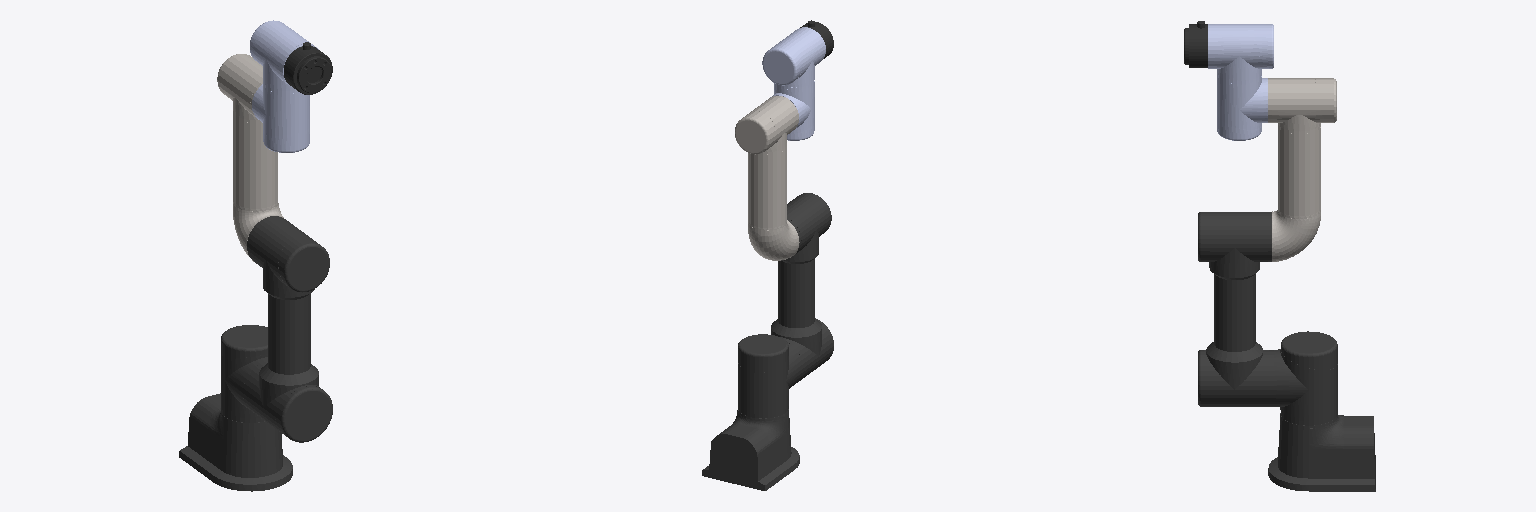
The robot description file, URDF, robot "aubo_ES3":
<?xml version="1.0"?>
<robot name="aubo_ES3">
  <dh_type type="modified"/>
  <safety_para singularity_consistent="0.02 0.01 10 0.2 0.045 10"/>
  <render_settings ambient_light_color="0xffffff" ambient_light_intensity="0.9" directional_light_color="0xffffff" directional_light_intensity="0.3"/>
  <link name="aubo_base">
    <inertial>
      <origin xyz="0.000149 -0.000400 0.034600" rpy="0 1.5708 0" />
      <mass value="1.365846" />
      <inertia ixx="0.002801" ixy="-0.000001" ixz="0.000002" iyy="0.002763" iyz="-0.000011" izz="0.003837" />
    </inertial>
    <visual>
      <origin xyz="0 0 0" rpy="0 0 0" />
      <geometry>
        <mesh filename="package://aubo_description/meshes/aubo_ES3/visual/link0.DAE" />
      </geometry>
      <material name="">
        <color rgba="0.29804 0.29804 0.29804 1" />
      </material>
    </visual>
    <collision>
      <origin xyz="0 0 0" rpy="0 0 0" />
      <geometry>
        <mesh filename="package://aubo_description/meshes/aubo_ES3/collision/link0.STL" />
      </geometry>
    </collision>
  </link>

  <link name="shoulder_Link">
    <inertial>
      <origin xyz="-0.000016 0.001852 -0.015716" rpy="0 0 0" />
      <mass value="3.257300" />
      <inertia ixx="0.005717" ixy="0.000001" ixz="0.000004" iyy="0.005636" iyz="-0.000131" izz="0.003863" />
    </inertial>
    <visual>
      <origin xyz="0 0 0" rpy="0 0 0" />
      <geometry>
        <mesh filename="package://aubo_description/meshes/aubo_ES3/visual/link1.DAE" />
      </geometry>
      <material name="">
        <color rgba="0.29804 0.29804 0.29804 1" />
      </material>
    </visual>
    <collision>
      <origin xyz="0 0 0" rpy="0 0 0" />
      <geometry>
        <mesh filename="package://aubo_description/meshes/aubo_ES3/collision/link1.STL" />
      </geometry>
    </collision>
  </link>

  <joint name="shoulder_joint" type="revolute">
    <origin xyz="0 0 0.181" rpy="0 0 3.1415926535897932384626433832795" />
    <parent link="aubo_base" />
    <child link="shoulder_Link" />
    <axis xyz="0 0 1" />
    <limit lower="-6.370451769779303" upper="6.370451769779303" effort="61" start_stop="102" velocity="3.106686068549907" />
    <property inertia="0" damping="0" stiffness="0" offset="0" motor_constant="8.58" ratio="101"/>
  </joint>

  <link name="upperArm_Link">
    <inertial>
      <origin xyz="0.113925 -0.000006 -0.006424" rpy="0 0 0" />
      <mass value="6.116851" />
      <inertia ixx="0.009999" ixy="0.000018" ixz="-0.000214" iyy="0.106325" iyz="0.000003" izz="0.102883" />
    </inertial>
    <visual>
      <origin xyz="0 0 0" rpy="0 0 0" />
      <geometry>
        <mesh filename="package://aubo_description/meshes/aubo_ES3/visual/link2.DAE" />
      </geometry>
      <material name="">
        <color rgba="0.29804 0.29804 0.29804 1" />
      </material>
    </visual>
    <collision>
      <origin xyz="0 0 0" rpy="0 0 0" />
      <geometry>
        <mesh filename="package://aubo_description/meshes/aubo_ES3/collision/link2.STL" />
      </geometry>
    </collision>
  </link>

  <joint name="upperArm_joint" type="revolute">
    <origin xyz="0 0.119 0" rpy="-1.5707963267948966192313216916398 -1.5707963267948966192313216916398 0" />
    <parent link="shoulder_Link" />
    <child link="upperArm_Link" />
    <axis xyz="0 0 1" />
    <limit lower="-6.370451769779303" upper="6.370451769779303" effort="61" start_stop="102" velocity="3.106686068549907" />
    <property inertia="0" damping="0" stiffness="0" offset="0" motor_constant="8.58" ratio="101"/>
  </joint>

  <link name="foreArm_Link">
    <inertial>
      <origin xyz="0.201115 -0.000036 0.093625" rpy="0 0 0" />
      <mass value="2.351523" />
      <inertia ixx="0.002760" ixy="0.000003" ixz="0.000301" iyy="0.022363" iyz="0.000004" izz="0.021553" />
    </inertial>
    <visual>
      <origin xyz="0 0 0" rpy="0 0 0" />
      <geometry>
        <mesh filename="package://aubo_description/meshes/aubo_ES3/visual/link3.DAE" />
      </geometry>
      <material name="">
        <color rgba="0.77647 0.75686 0.73725 1" />
      </material>
    </visual>
    <collision>
      <origin xyz="0 0 0" rpy="0 0 0" />
      <geometry>
        <mesh filename="package://aubo_description/meshes/aubo_ES3/collision/link3.STL" />
      </geometry>
    </collision>
  </link>

  <joint name="foreArm_joint" type="revolute">
    <origin xyz="0.266 0 0" rpy="-3.1415926535897932384626433832795 0 0" />
    <parent link="upperArm_Link" />
    <child link="foreArm_Link" />
    <axis xyz="0 0 1" />
    <limit lower="-2.809980095710871" upper="2.809980095710871" effort="49" start_stop="66" velocity="3.106686068549907" />
    <property inertia="0" damping="0" stiffness="0" offset="0" motor_constant="8.81" ratio="101"/>
  </joint>

  <link name="wrist1_Link">
    <inertial>
      <origin xyz="0.000038 0.011278 -0.001539" rpy="0 0 0" />
      <mass value="1.628022" />
      <inertia ixx="0.001951" ixy="0.000003" ixz="0.000001" iyy="0.001154" iyz="-0.000042" izz="0.001931" />
    </inertial>
    <visual>
      <origin xyz="0 0 0" rpy="0 0 0" />
      <geometry>
        <mesh filename="package://aubo_description/meshes/aubo_ES3/visual/link4.DAE" />
      </geometry>
      <material name="">
        <color rgba="0.79216 0.81961 0.93333 1" />
      </material>
    </visual>
    <collision>
      <origin xyz="0 0 0" rpy="0 0 0" />
      <geometry>
        <mesh filename="package://aubo_description/meshes/aubo_ES3/collision/link4.STL" />
      </geometry>
    </collision>
  </link>

  <joint name="wrist1_joint" type="revolute">
    <origin xyz="0.2565 0 0" rpy="3.1415926535897932384626433832795 0 1.5707963267948966192313216916398" />
    <parent link="foreArm_Link" />
    <child link="wrist1_Link" />
    <axis xyz="0 0 1" />
    <limit lower="-6.370451769779303" upper="6.370451769779303" effort="13.5" start_stop="34" velocity="4.136430327226561" />
    <property inertia="0" damping="0" stiffness="0" offset="0" motor_constant="7.092" ratio="101"/>
  </joint>

  <link name="wrist2_Link">
    <inertial>
      <origin xyz="-0.000038 -0.011278 -0.001539" rpy="0 0 0" />
      <mass value="1.628022" />
      <inertia ixx="0.001951" ixy="0.000003" ixz="-0.000001" iyy="0.001154" iyz="0.000042" izz="0.001931" />
    </inertial>
    <visual>
      <origin xyz="0 0 0" rpy="0 0 0" />
      <geometry>
        <mesh filename="package://aubo_description/meshes/aubo_ES3/visual/link5.DAE" />
      </geometry>
      <material name="">
        <color rgba="0.79216 0.81961 0.93333 1" />
      </material>
    </visual>
    <collision>
      <origin xyz="0 0 0" rpy="0 0 0" />
      <geometry>
        <mesh filename="package://aubo_description/meshes/aubo_ES3/collision/link5.STL" />
      </geometry>
    </collision>
  </link>

  <joint name="wrist2_joint" type="revolute">
    <origin xyz="0 0.1025 0" rpy="-1.5707963267948966192313216916398 0 0" />
    <parent link="wrist1_Link" />
    <child  link="wrist2_Link" />
    <axis xyz="0 0 1" />
    <limit lower="-6.370451769779303" upper="6.370451769779303" effort="13.5" start_stop="34" velocity="4.136430327226561" />
    <property inertia="0" damping="0" stiffness="0" offset="0" motor_constant="7.092" ratio="101"/>
  </joint>

  <link name="wrist3_Link">
    <inertial>
      <origin xyz="0.000022 0.000600 -0.017081" rpy="0 0 0" />
      <mass value="0.197800" />
      <inertia ixx="6.1911E-05" ixy="0"  ixz="0" iyy="5.9471E-05" iyz="2.8126E-07" izz="9.7957E-05" />
    </inertial>
    <visual>
      <origin xyz="0 0 0" rpy="0 0 0" />
      <geometry>
        <mesh filename="package://aubo_description/meshes/aubo_ES3/visual/link6.DAE" />
      </geometry>
      <material name="">
        <color rgba="0.25098 0.25098 0.25098 1" />
      </material>
    </visual>
    <collision>
      <origin  xyz="0 0 0" rpy="0 0 0" />
      <geometry>
        <mesh filename="package://aubo_description/meshes/aubo_ES3/collision/link6.STL" />
      </geometry>
    </collision>
  </link>

  <joint name="wrist3_joint" type="revolute">
    <origin xyz="0 -0.094 0" rpy="1.5707963267948966192313216916398 0 0" />
    <parent link="wrist2_Link" />
    <child link="wrist3_Link" />
    <axis xyz="0 0 1" />
    <limit lower="-6.370451769779303" upper="6.370451769779303" effort="13.5" start_stop="34" velocity="4.136430327226561" />
    <property inertia="0" damping="0" stiffness="0" offset="0" motor_constant="7.092" ratio="101"/>
  </joint>

  <link name="world" />

  <joint name="world_joint" type="fixed">
    <parent link="world" />
    <child link = "aubo_base" />
    <origin xyz="0.0 0.0 0.0" rpy="0.0 0.0 0.0" />
  </joint>
</robot>

--- What the picture shows (computed from the rendered views, not written in the file) ---
The picture shows the robot from 3 angles, left to right: view 1: azimuth 30°, elevation 25°; view 2: azimuth 150°, elevation 25°; view 3: azimuth 270°, elevation 25°; orthographic projection.
Robot: aubo_ES3 — 8 links, 7 joints (6 revolute, 1 fixed); root link world; default pose: every joint at zero.
Visible links, largest first — view 1: upperArm_Link, aubo_base, foreArm_Link, shoulder_Link, wrist1_Link, wrist2_Link, wrist3_Link; view 2: foreArm_Link, upperArm_Link, aubo_base, shoulder_Link, wrist2_Link, wrist1_Link; view 3: upperArm_Link, foreArm_Link, aubo_base, shoulder_Link, wrist2_Link, wrist1_Link, wrist3_Link.
Boxes of the visible links, x1,y1,x2,y2 form: upperArm_Link: (243,216,332,442); aubo_base: (179,393,292,491); foreArm_Link: (217,54,283,261); shoulder_Link: (221,325,267,422); wrist1_Link: (252,82,309,152); wrist2_Link: (250,20,318,90); wrist3_Link: (284,42,332,94); foreArm_Link: (735,96,799,260); upperArm_Link: (771,193,833,382); aubo_base: (702,409,799,490); shoulder_Link: (738,334,800,418); wrist2_Link: (762,27,825,87); wrist1_Link: (770,81,814,140); upperArm_Link: (1198,212,1273,406); foreArm_Link: (1268,78,1336,261); aubo_base: (1268,413,1375,491); shoulder_Link: (1274,331,1337,425); wrist2_Link: (1208,24,1273,80); wrist1_Link: (1217,74,1267,140); wrist3_Link: (1184,21,1207,67).
Size in the robot's own frame: 0.14 by 0.3265 by 0.852 metres.
Meshes: 7 distinct files referenced, 7 mesh visuals loaded (7 Collada DAE).